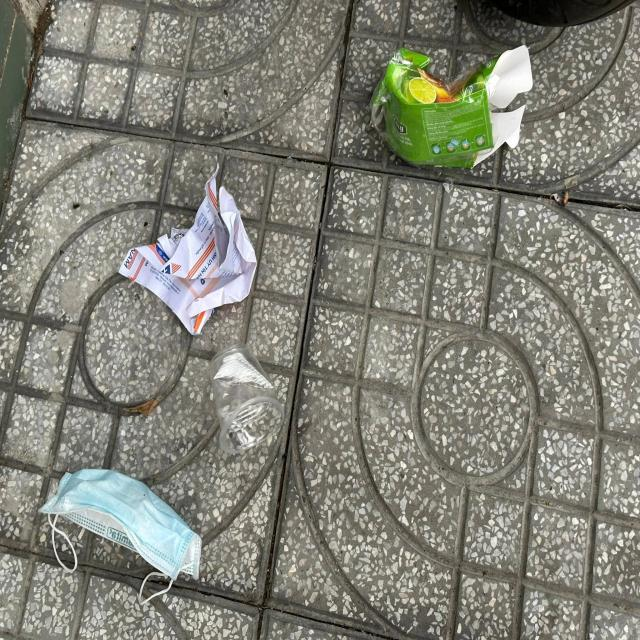cardboard box: (372, 44, 534, 168)
mask: (36, 470, 202, 604)
paper: (116, 164, 257, 338)
plastic glass: (209, 344, 284, 449)
